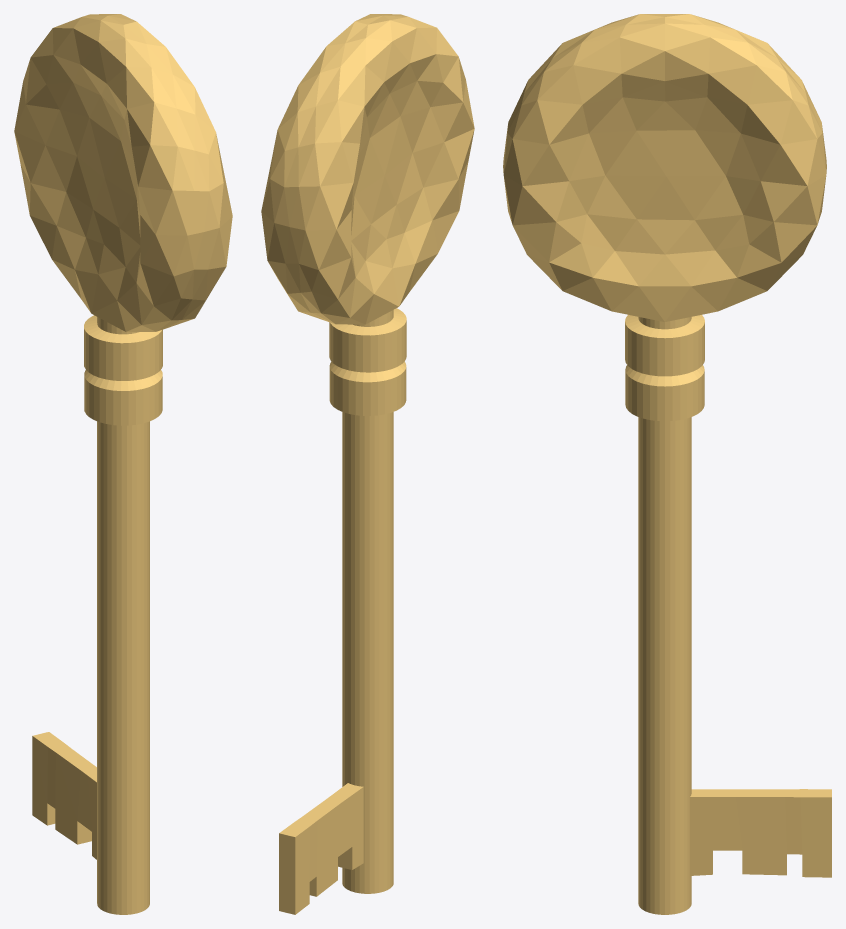
File: key.fbx
3 renders of one model, left to right at view 1: azimuth 30°, elevation 25°; view 2: azimuth 150°, elevation 25°; view 3: azimuth 270°, elevation 25°, orthographic. The views are drawn at different scales.
Visible parts, largest first — view 1: anahtar; view 2: anahtar; view 3: anahtar.
Boxes of the visible parts, x1=… form: anahtar: x1=14, y1=14, x2=232, y2=914; anahtar: x1=261, y1=14, x2=474, y2=914; anahtar: x1=503, y1=14, x2=831, y2=914.
Bounding box in the file's own units: 3.58 × 36.34 × 12.22.
